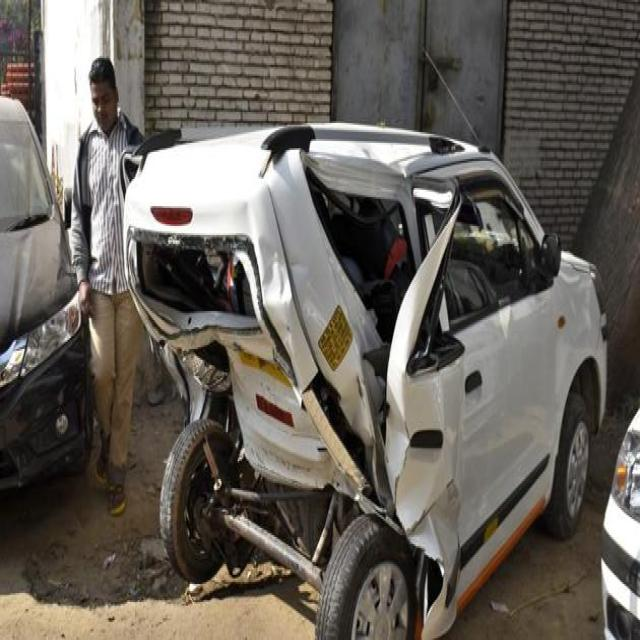accident: (124, 125, 605, 637)
